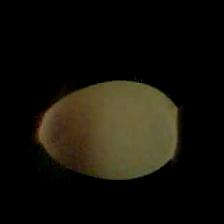infertile: (36, 78, 180, 182)
